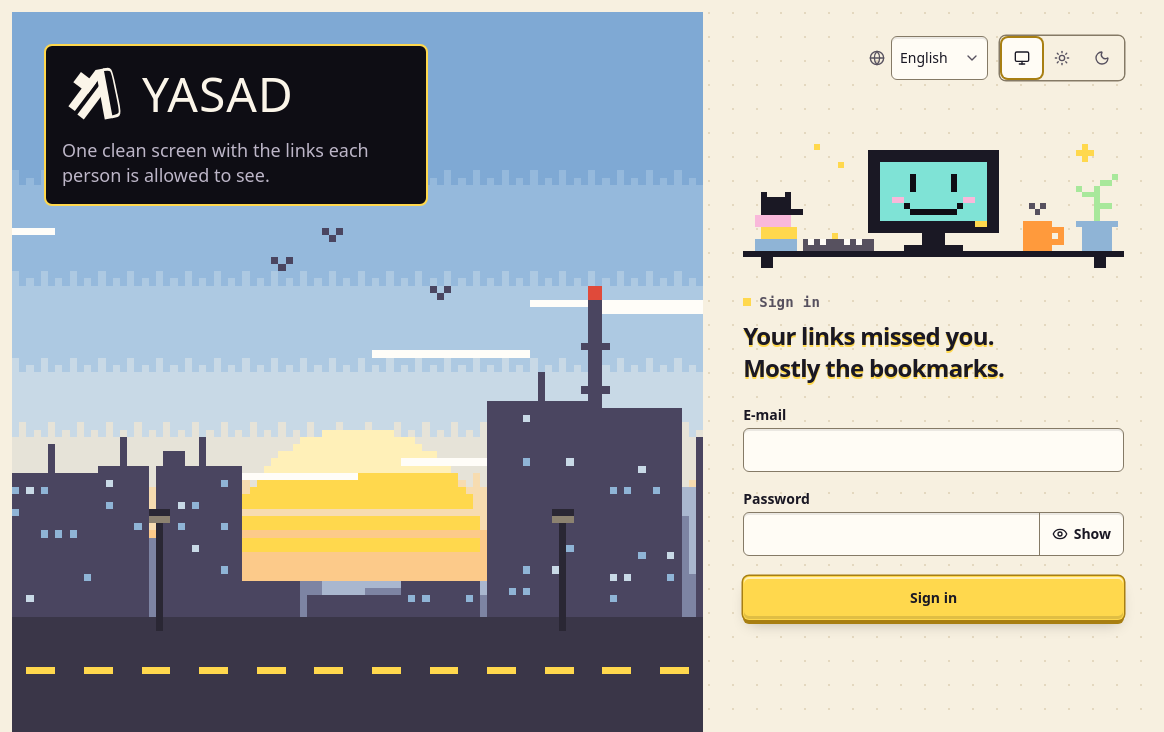
Test: SignIn › shows the greeting in the language just chosen on the same screen
Select "Français" in the dropdown named "Language / Langue" at (940, 58), box x1=891 y1=36 x2=988 y2=80
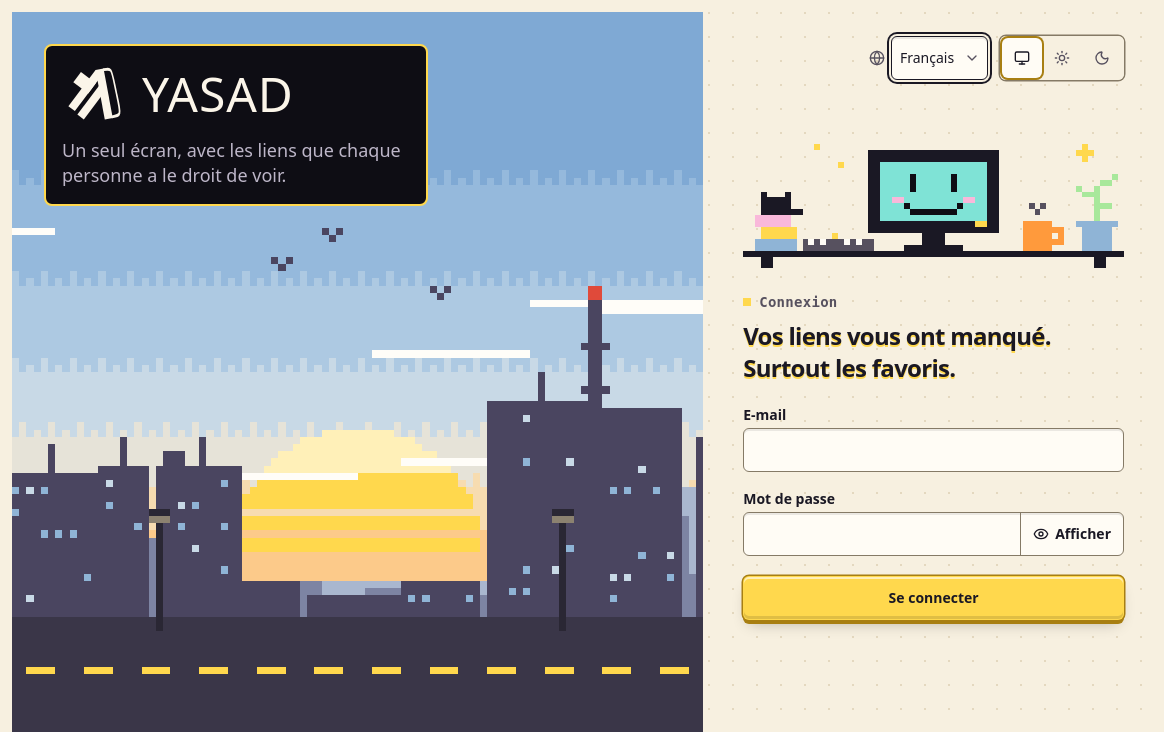
Check: the text "Vos liens vous ont manqué. Surtout les favoris." is shown, box x1=743 y1=320 x2=1051 y2=384
Check: the text "Your links missed you. Mostly the bookmarks." is gone
